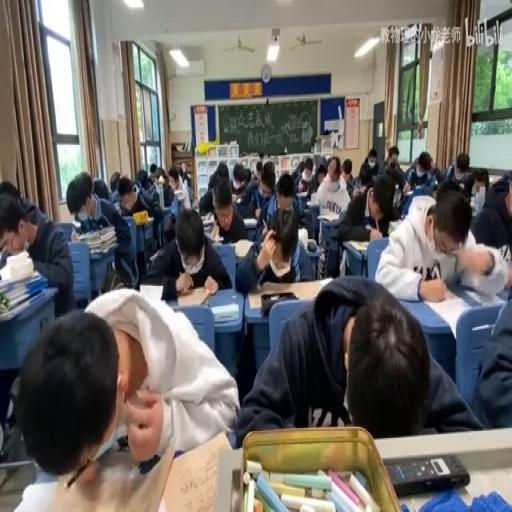calculator: (177, 284, 213, 308), (210, 300, 238, 322), (136, 282, 163, 300), (233, 236, 254, 256), (200, 212, 216, 237), (462, 289, 486, 304), (346, 239, 370, 253), (318, 209, 341, 222), (392, 182, 402, 208), (386, 219, 402, 235), (155, 182, 164, 208), (496, 286, 509, 301), (488, 175, 504, 186), (242, 214, 258, 224), (71, 219, 81, 232), (295, 189, 308, 198), (306, 198, 320, 206), (402, 182, 412, 193), (149, 248, 158, 260), (230, 192, 238, 202)
paper: (10, 292, 231, 500), (229, 276, 475, 442), (374, 186, 504, 303), (2, 180, 75, 318), (69, 172, 136, 293), (152, 203, 229, 300), (234, 205, 314, 290), (471, 269, 512, 428), (335, 170, 390, 258), (197, 165, 245, 225), (477, 170, 512, 243), (131, 169, 164, 245), (238, 164, 274, 226), (402, 148, 436, 192), (380, 146, 406, 192), (166, 165, 189, 212), (298, 200, 318, 240), (306, 156, 326, 195), (436, 176, 463, 199), (276, 170, 294, 204), (362, 146, 380, 176), (469, 168, 489, 193), (91, 175, 109, 200), (0, 179, 19, 201), (290, 160, 304, 188), (454, 152, 469, 174), (134, 168, 148, 189), (253, 158, 263, 182), (344, 170, 354, 194), (216, 161, 229, 179), (110, 171, 120, 192), (149, 161, 158, 179), (181, 170, 190, 188), (157, 170, 167, 186), (244, 166, 252, 184), (118, 180, 128, 194), (324, 155, 330, 171), (178, 162, 185, 174), (429, 158, 436, 169)
person: (384, 452, 470, 494), (0, 460, 37, 506), (260, 292, 296, 316), (306, 239, 318, 252)
